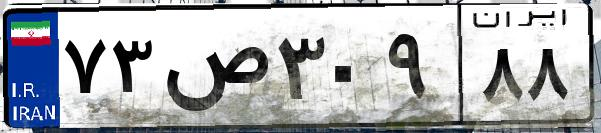0: (330, 28, 385, 110)
3: (270, 28, 330, 110), (110, 28, 158, 98)
7: (57, 26, 110, 100)
8: (475, 38, 525, 113), (525, 38, 570, 115)
9: (385, 28, 445, 110)
ص: (158, 20, 270, 120)
